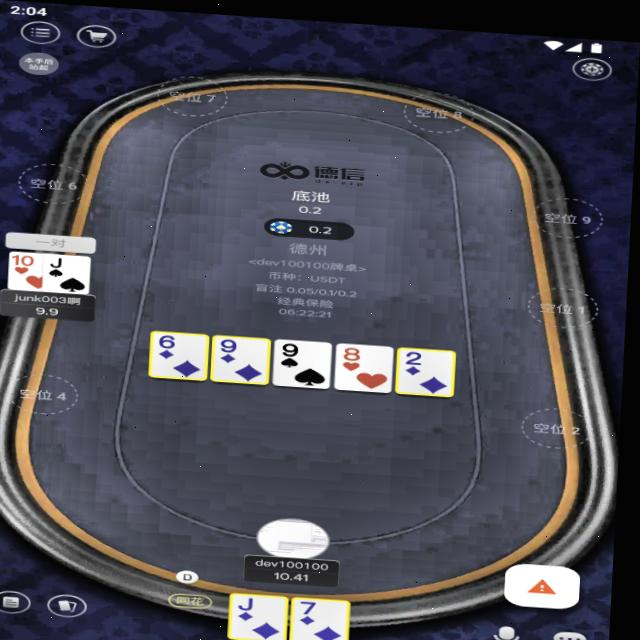10h: (12, 251, 42, 267)
2f: (406, 344, 432, 361)
6f: (159, 331, 186, 348)
7f: (304, 595, 330, 613)
8h: (344, 339, 370, 358)
9f: (218, 334, 245, 351)
9s: (282, 336, 307, 355)
Jf: (242, 591, 266, 609)
Js: (50, 255, 71, 269)
